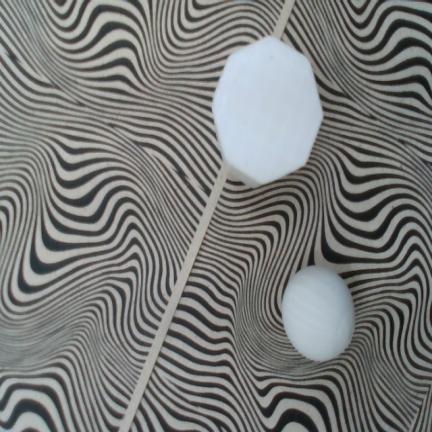Esfera: (281, 266, 355, 361)
Prisma_hexagonal: (212, 37, 324, 187)
